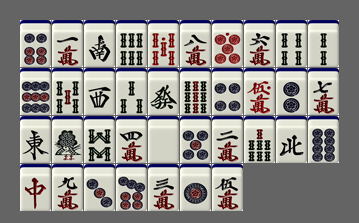0m: (244, 68, 275, 115)
0p: (212, 20, 243, 67)
0s: (148, 20, 179, 67)
1m: (52, 20, 83, 67)
1p: (180, 164, 211, 211)
1s: (52, 116, 83, 163)
1z: (20, 116, 51, 163)
2m: (212, 116, 243, 163)
2p: (276, 68, 307, 115)
2s: (308, 20, 339, 67)
2z: (84, 20, 115, 67)
3m: (148, 164, 179, 211)
3p: (84, 164, 115, 211)
3s: (116, 68, 147, 115)
3z: (84, 68, 115, 115)
4m: (116, 116, 147, 163)
4p: (212, 68, 243, 115)
4s: (276, 20, 307, 67)
4z: (276, 116, 307, 163)
5m: (212, 164, 243, 211)
5p: (180, 116, 211, 163)
5s: (52, 68, 83, 115)
5z: (148, 116, 179, 163)
6m: (244, 20, 275, 67)
6p: (20, 20, 51, 67)
6s: (116, 20, 147, 67)
6z: (148, 68, 179, 115)
7m: (308, 68, 339, 115)
7p: (116, 164, 147, 211)
7s: (244, 116, 275, 163)
7z: (20, 164, 51, 211)
8m: (180, 20, 211, 67)
8p: (308, 116, 339, 163)
8s: (84, 116, 115, 163)
9m: (52, 164, 83, 211)
9p: (20, 68, 51, 115)
9s: (180, 68, 211, 115)
